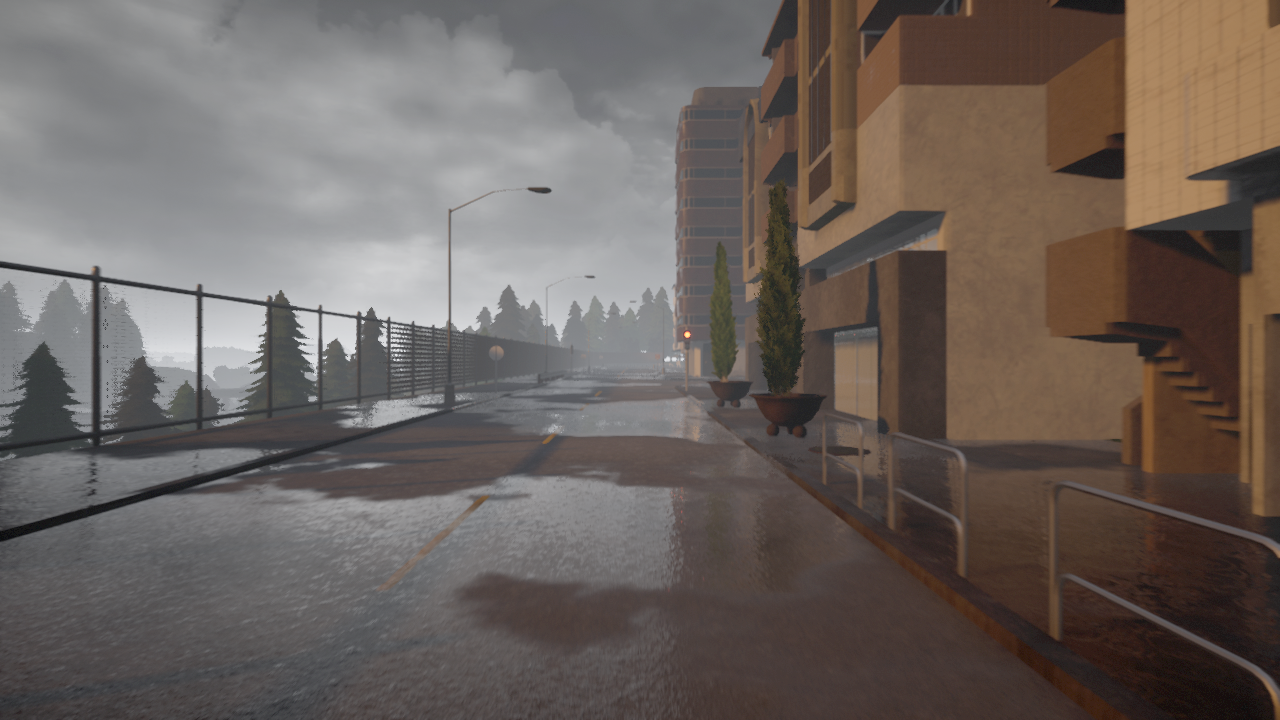red: (683, 330, 691, 350)
